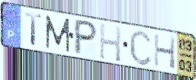C: (129, 29, 154, 67)
H: (98, 21, 123, 64), (153, 32, 177, 71)
M: (45, 14, 71, 54)
P: (73, 18, 99, 56)
T: (24, 12, 44, 48)
